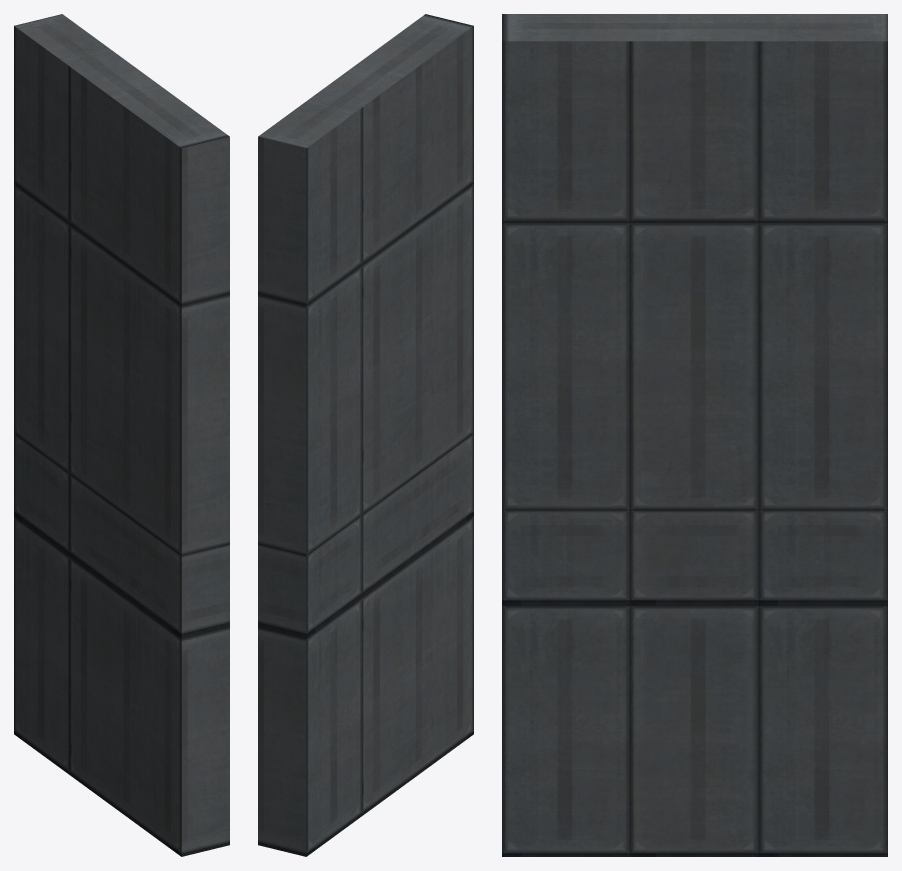
Rendered from Neon_Wall_DFrameA1.FBX.
The picture shows the model from 3 angles, left to right: view 1: azimuth 30°, elevation 25°; view 2: azimuth 150°, elevation 25°; view 3: azimuth 270°, elevation 25°; orthographic projection. The views are drawn at different scales.
Visible parts, largest first — view 1: Neon_Wall_DFrameA1; view 2: Neon_Wall_DFrameA1; view 3: Neon_Wall_DFrameA1.
Part boxes in pixels (x1=…): Neon_Wall_DFrameA1: x1=14, y1=14, x2=229, y2=856; Neon_Wall_DFrameA1: x1=258, y1=14, x2=473, y2=856; Neon_Wall_DFrameA1: x1=502, y1=14, x2=887, y2=856.
Size of the model in its own units: 1 by 14 by 6.
